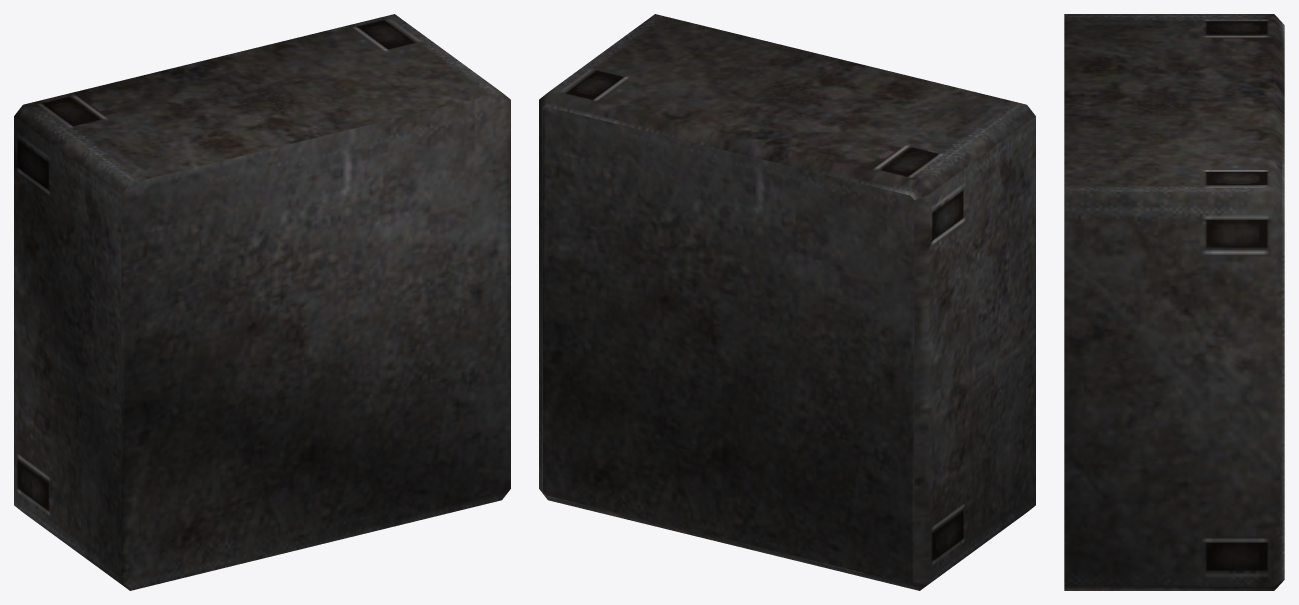
Rendered from girder_lab_end.dae.
The picture shows the model from 3 angles, left to right: view 1: azimuth 30°, elevation 25°; view 2: azimuth 150°, elevation 25°; view 3: azimuth 270°, elevation 25°; orthographic projection. The views are drawn at different scales.
Visible parts, largest first — view 1: pCube19; view 2: pCube19; view 3: pCube19.
Boxes of the visible parts, x1=… form: pCube19: x1=14, y1=14, x2=510, y2=590; pCube19: x1=539, y1=14, x2=1035, y2=590; pCube19: x1=1064, y1=14, x2=1284, y2=590.
Bounding box in the file's own units: 0.25 × 0.25 × 0.125.
